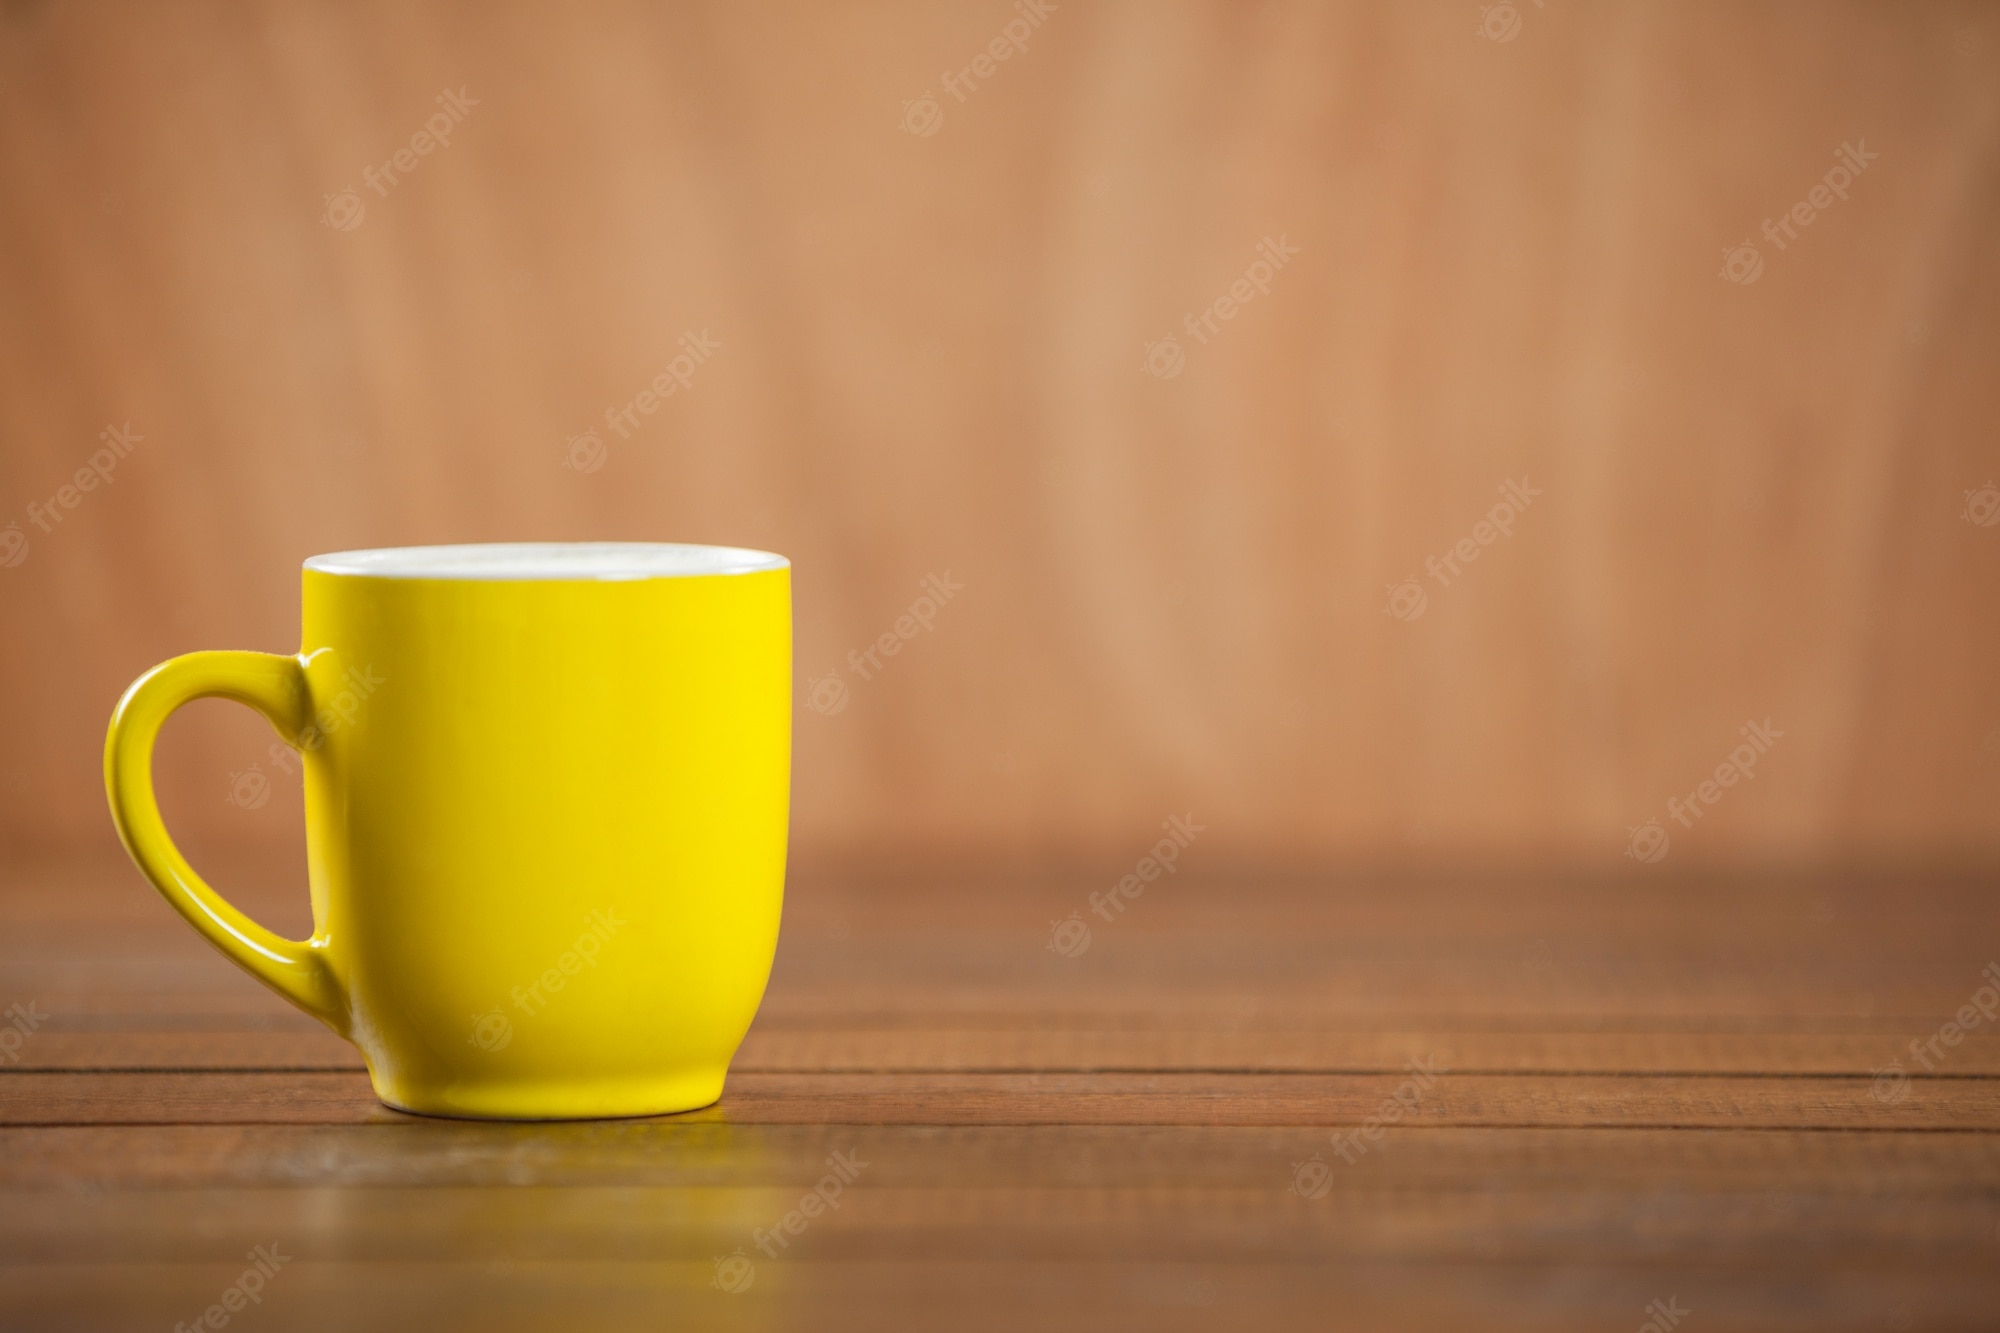cup: (91, 546, 825, 1120)
